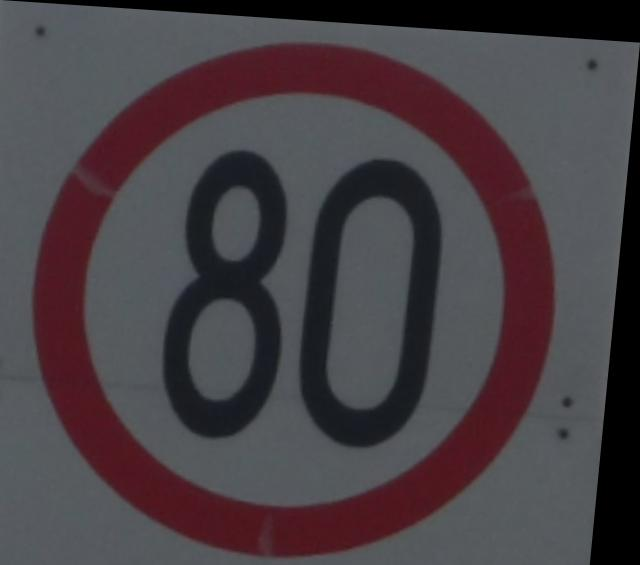limit80: (7, 18, 591, 565)
